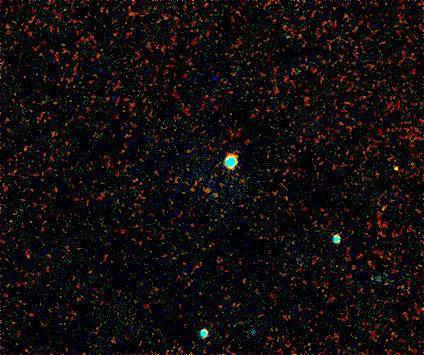star: (379, 150, 409, 180)
